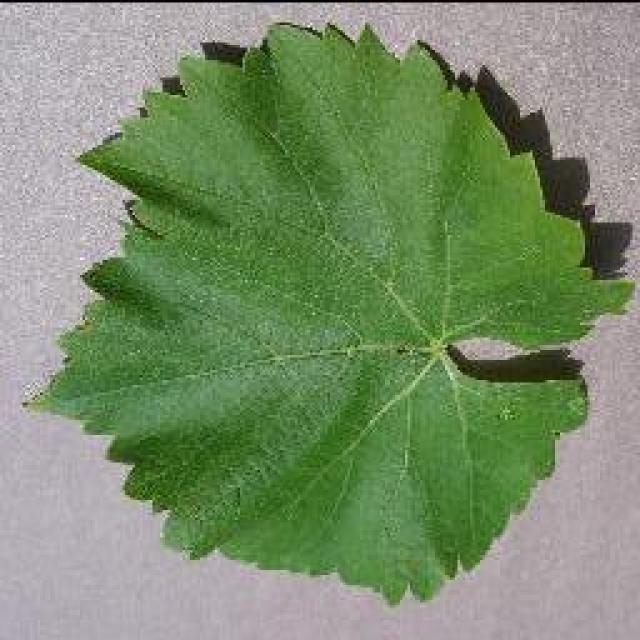Grape___healthy: (32, 22, 630, 602)
